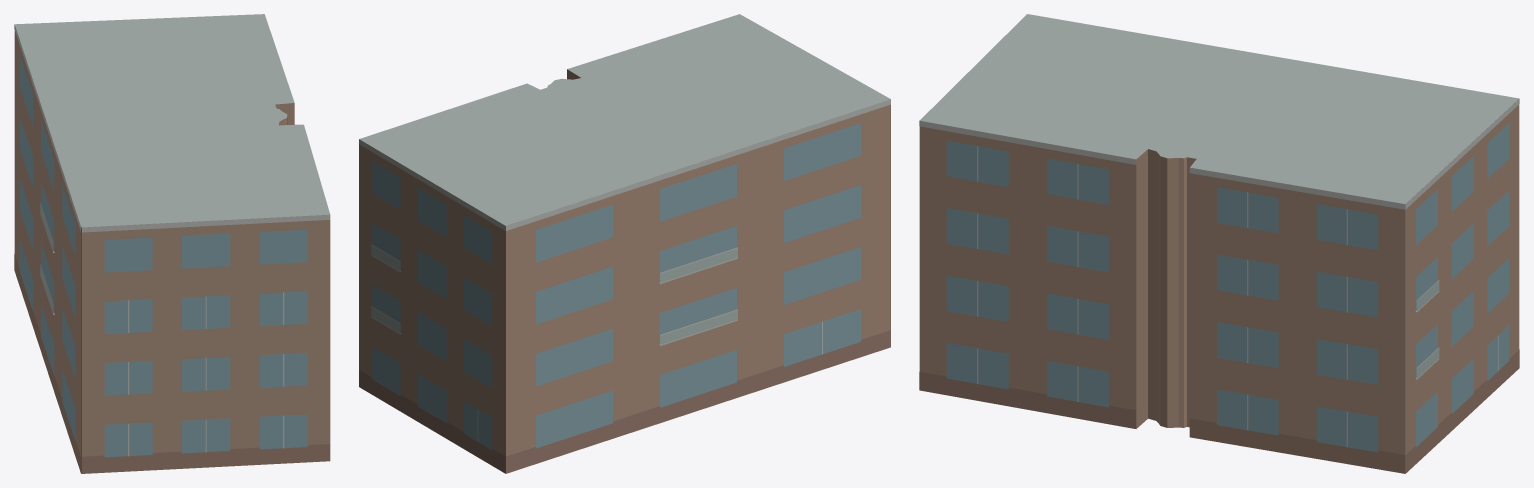
File: survey-upis-32817325.glb
3 renders of one model, left to right at view 1: azimuth 30°, elevation 25°; view 2: azimuth 150°, elevation 25°; view 3: azimuth 270°, elevation 25°, orthographic. The views are drawn at different scales.
Visible parts, largest first — view 1: survey-upis-32817325.tmp; view 2: survey-upis-32817325.tmp; view 3: survey-upis-32817325.tmp.
Part boxes in pixels (x1,y1,x2,y2): survey-upis-32817325.tmp: [14, 14, 330, 473]; survey-upis-32817325.tmp: [359, 14, 890, 473]; survey-upis-32817325.tmp: [919, 14, 1519, 473].
Size of the model in its own units: 17.85 by 11.8 by 23.8.
